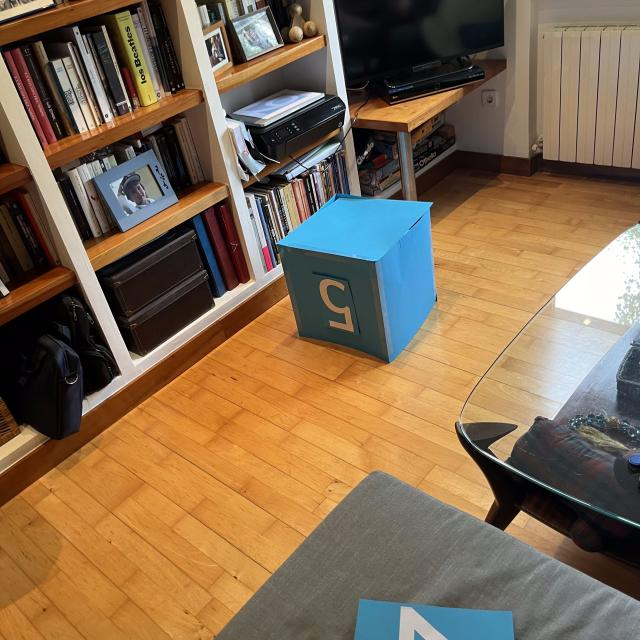box: (272, 189, 441, 365)
